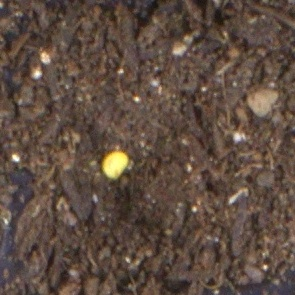chilli seed: (101, 150, 129, 180)
